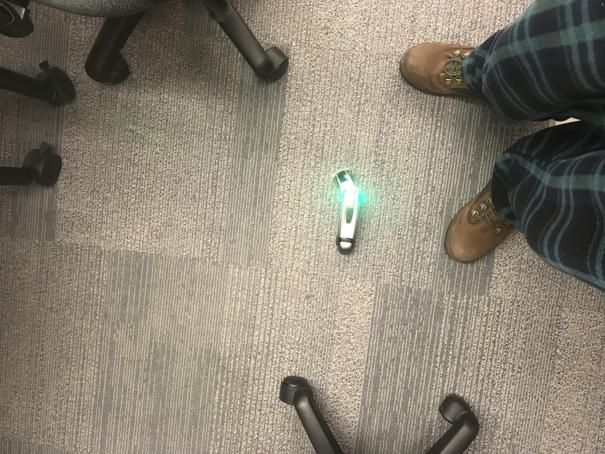Freewheel: (331, 169, 364, 255)
